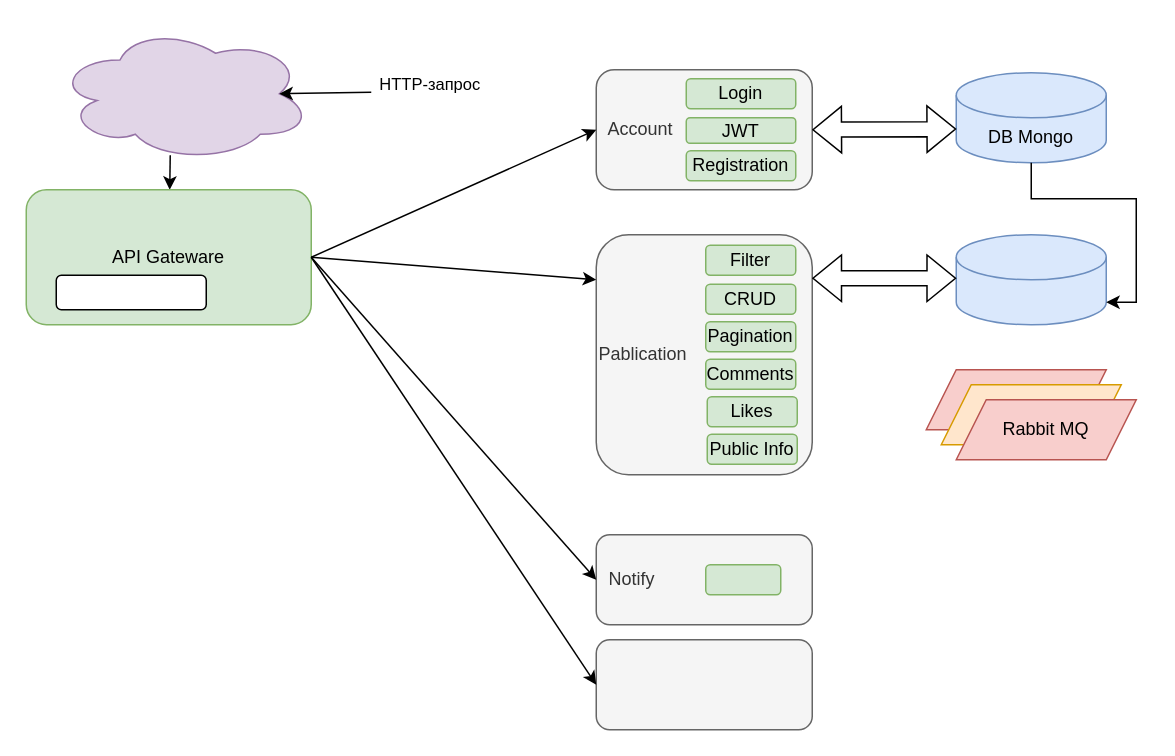
Some shapes in this 1175 by 756 pixel diagram are drawn without their labels. The shapes that lost their labels are listed below. From the top down, each one's centre as x and y in pixels, then its label:
At [130,292]: "Autorization".
At [1030,279]: "DB Postgre SQL".
At [742,579]: "e-mail".
